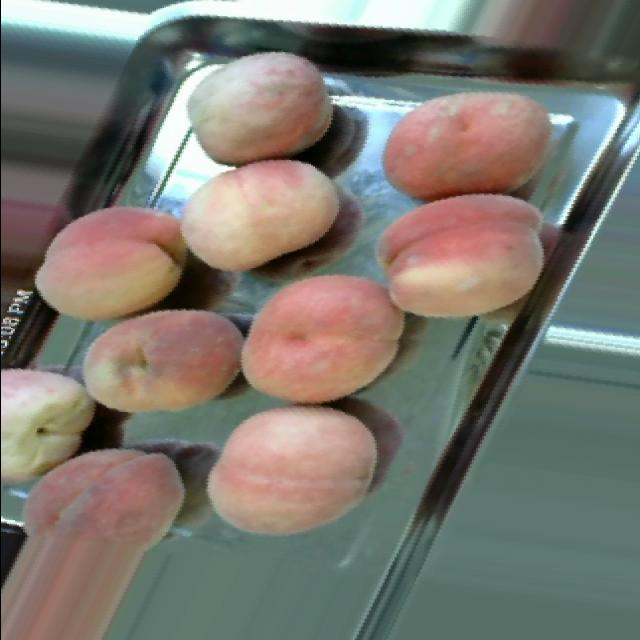Fruit: (0, 430, 208, 640), (362, 185, 564, 344), (195, 399, 395, 553), (227, 258, 418, 412), (366, 74, 566, 212), (60, 306, 262, 438), (14, 182, 201, 320), (169, 159, 352, 289), (171, 38, 346, 164), (0, 341, 115, 510), (439, 0, 596, 60)
